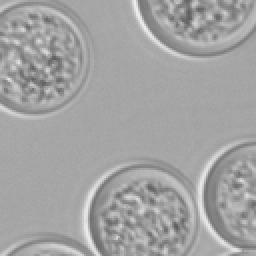picoshell: (82, 158, 198, 254), (130, 0, 254, 58), (196, 138, 254, 248), (0, 234, 92, 254), (224, 248, 254, 254)
